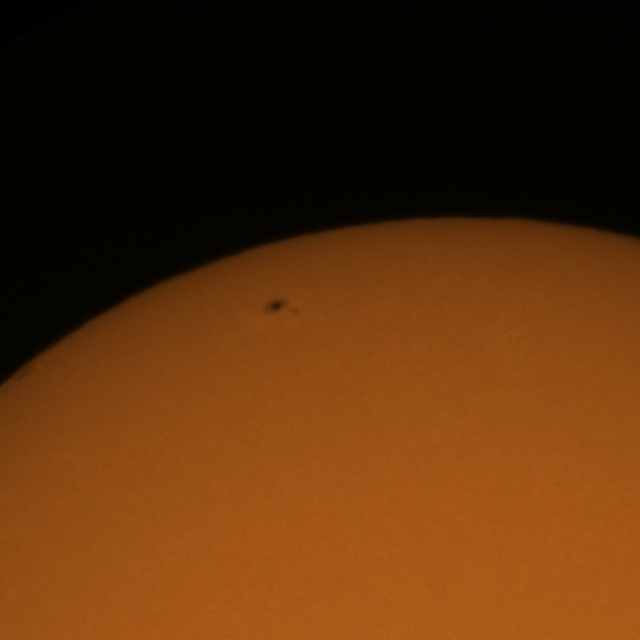sunspot: (262, 298, 300, 318)
